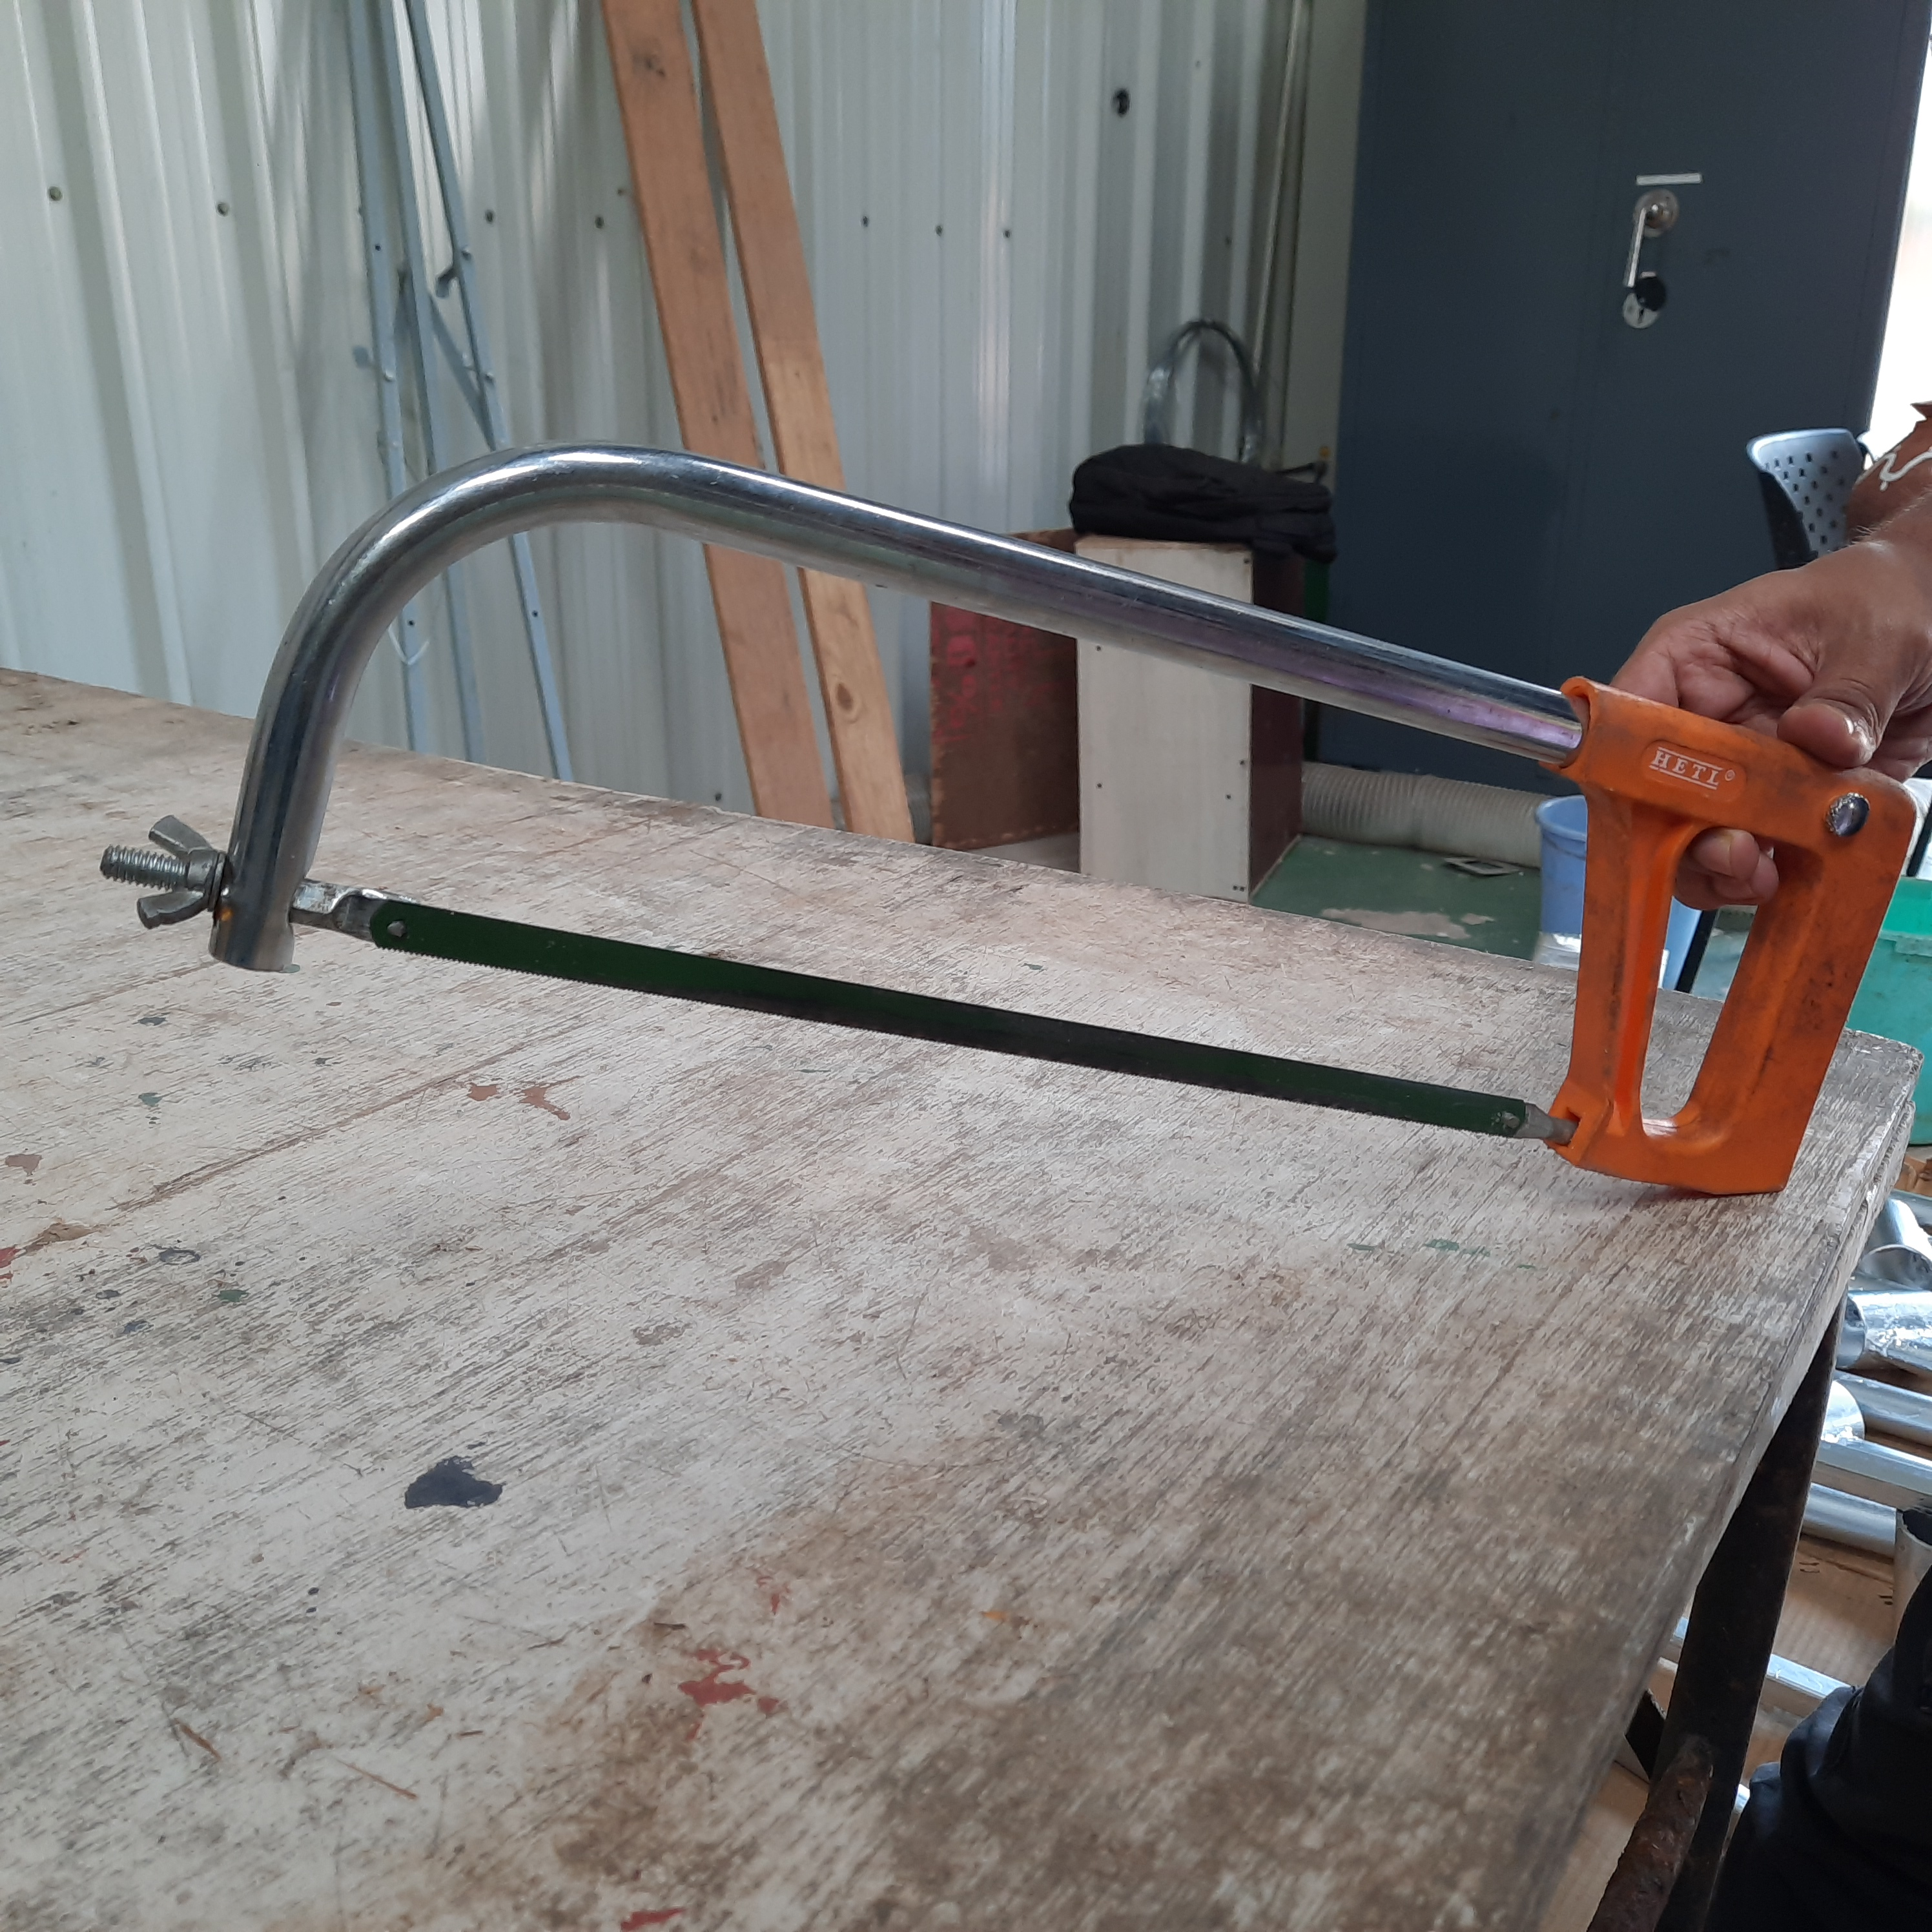Hexaframe: (88, 396, 1905, 1244)
